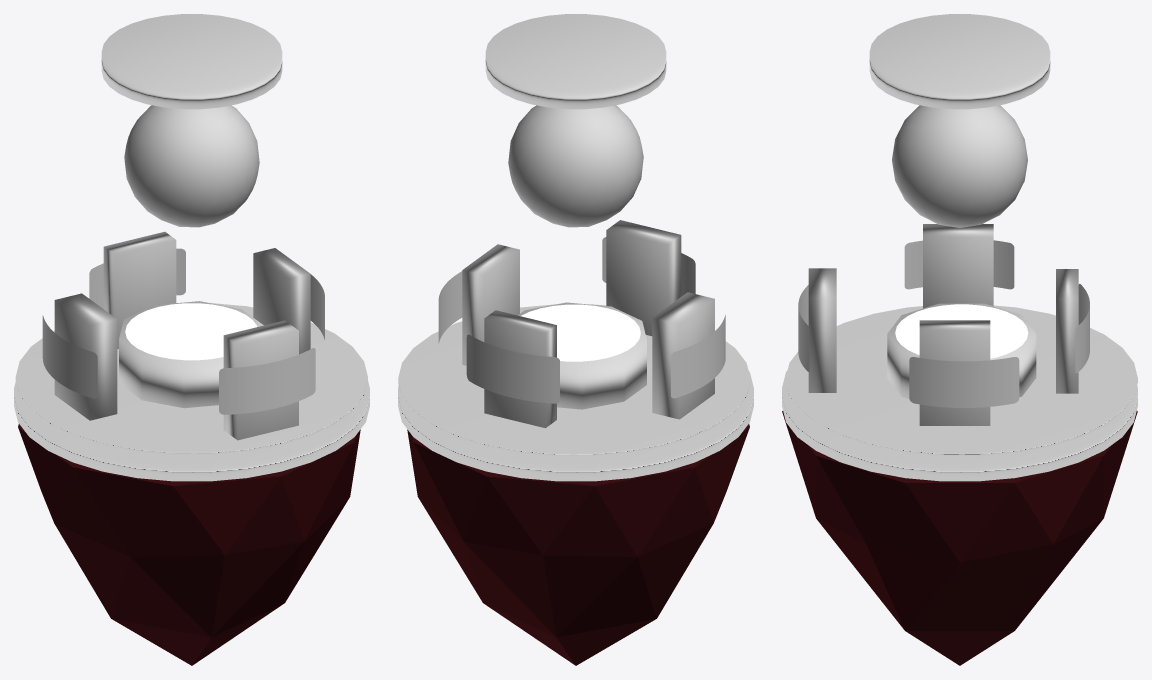
The model's file is jtiisland.glb.
3 renders of one model, left to right at view 1: azimuth 30°, elevation 25°; view 2: azimuth 150°, elevation 25°; view 3: azimuth 270°, elevation 25°, orthographic.
Parts seen in each view (by area): view 1: Icosphere.001, Cylinder.060, Cylinder.056, Icosphere, Cylinder.055, Cube.129, Cylinder.059, Cylinder.058, Cube.130, Cube.127, SCREEN 0.118, Cube.128 (+3 smaller); view 2: Icosphere.001, Cylinder.060, Cylinder.056, Icosphere, Cylinder.055, Cube.127, Cube.130, Cylinder.058, Cylinder.059, SCREEN 0.117, Cube.129, Cube.128 (+3 smaller); view 3: Icosphere.001, Cylinder.060, Cylinder.056, Icosphere, Cylinder.055, Cube.130, SCREEN 0.115, Cube.128, Cube.127, Cylinder.059, Cylinder.058, Cube.129 (+3 smaller).
Part boxes in pixels (x1,y1,x2,y2): Icosphere.001: (18, 424, 360, 665); Cylinder.060: (15, 303, 367, 455); Cylinder.056: (101, 14, 282, 109); Icosphere: (124, 105, 259, 227); Cylinder.055: (14, 381, 369, 481); Cube.129: (103, 231, 176, 348); Cylinder.059: (125, 303, 256, 360); Cylinder.058: (119, 301, 263, 408); Cube.130: (54, 293, 117, 420); Cube.127: (223, 320, 298, 440); SCREEN 0.118: (219, 348, 315, 414); Cube.128: (253, 248, 310, 354); Icosphere.001: (407, 424, 749, 665); Cylinder.060: (398, 304, 750, 456); Cylinder.056: (485, 14, 666, 109); Icosphere: (508, 105, 643, 227); Cylinder.055: (398, 371, 753, 481); Cube.127: (606, 220, 681, 336); Cube.130: (652, 292, 714, 419); Cylinder.058: (518, 302, 646, 409); Cylinder.059: (520, 304, 640, 361); SCREEN 0.117: (466, 334, 559, 403); Cube.129: (484, 310, 556, 428); Cube.128: (462, 244, 519, 365); Icosphere.001: (782, 411, 1137, 665); Cylinder.060: (785, 305, 1137, 456); Cylinder.056: (869, 14, 1050, 109); Icosphere: (892, 105, 1027, 227); Cylinder.055: (782, 370, 1137, 481); Cube.130: (923, 224, 993, 308); SCREEN 0.115: (909, 357, 1019, 407); Cube.128: (919, 320, 990, 425); Cube.127: (808, 268, 836, 392); Cylinder.059: (895, 304, 1028, 358); Cylinder.058: (887, 303, 1036, 398); Cube.129: (1056, 269, 1078, 393).
Size of the model in its own units: 1.99 by 3.81 by 2.
